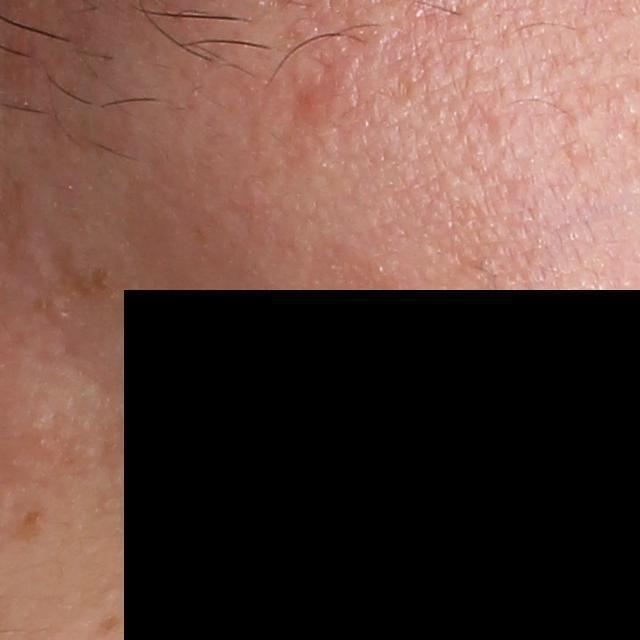melasma: (37, 244, 124, 323), (16, 503, 55, 543), (86, 609, 122, 638)
